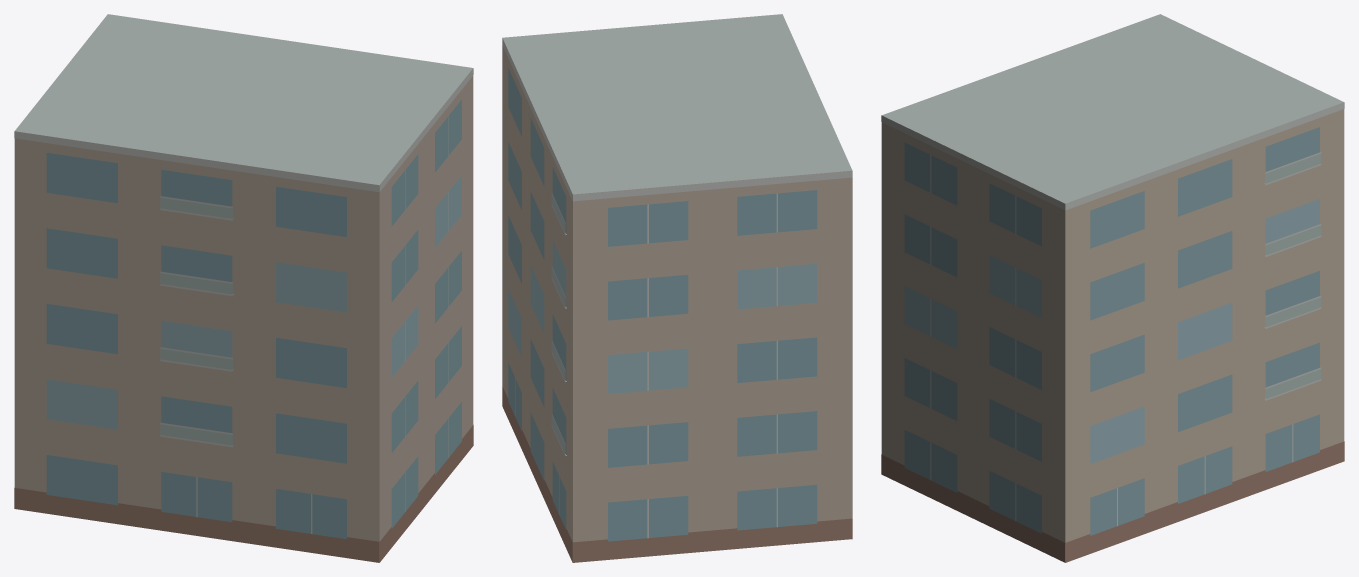
File: survey-upis-32889580.glb
3 views of the same model, side by side, from view 1: azimuth 30°, elevation 25°; view 2: azimuth 150°, elevation 25°; view 3: azimuth 270°, elevation 25° (orthographic). The views are drawn at different scales.
Visible parts, largest first — view 1: survey-upis-32889580.tmp; view 2: survey-upis-32889580.tmp; view 3: survey-upis-32889580.tmp.
Part boxes in pixels (x1=…): survey-upis-32889580.tmp: x1=14, y1=14, x2=473, y2=562; survey-upis-32889580.tmp: x1=502, y1=14, x2=852, y2=562; survey-upis-32889580.tmp: x1=881, y1=14, x2=1344, y2=562.
Size of the model in its own units: 14.85 by 13.1 by 15.31.
